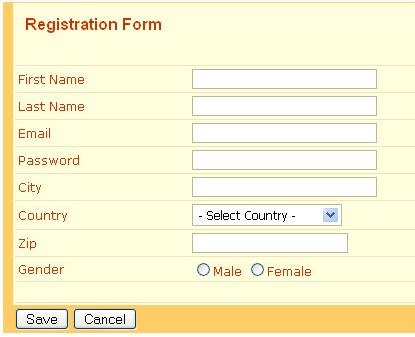button: (74, 308, 141, 331), (13, 307, 70, 330)
field: (188, 120, 377, 145), (189, 67, 377, 92), (188, 174, 379, 198), (188, 94, 377, 118), (188, 148, 378, 171), (189, 229, 349, 255), (190, 202, 344, 228)
field_with_label: (17, 64, 380, 93), (18, 118, 379, 147), (18, 200, 345, 230), (18, 92, 380, 119), (18, 173, 380, 200), (18, 146, 379, 173), (19, 228, 351, 257)
radio: (193, 259, 211, 280), (250, 260, 264, 280)
radio_with_label: (247, 257, 311, 282), (190, 257, 242, 282)
